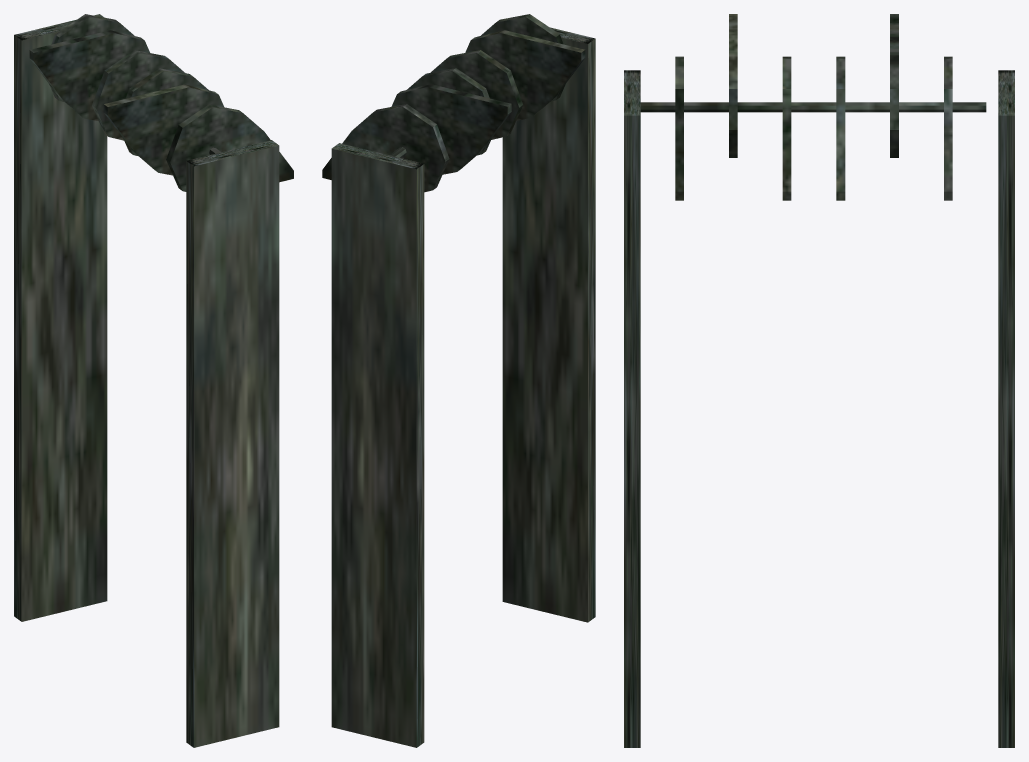
File: SpinnerRack.glb
3 views of the same model, side by side, from view 1: azimuth 30°, elevation 25°; view 2: azimuth 150°, elevation 25°; view 3: azimuth 270°, elevation 25° (orthographic). The views are drawn at different scales.
Visible parts, largest first — view 1: Cube, Cylinder_002; view 2: Cube, Cylinder_002; view 3: Cube, Cylinder_002.
Part boxes in pixels (<box>): Cube: <box>14,14,279,747</box>; Cylinder_002: <box>29,14,293,191</box>; Cube: <box>331,27,595,747</box>; Cylinder_002: <box>322,14,585,192</box>; Cube: <box>624,70,1014,747</box>; Cylinder_002: <box>640,14,986,200</box>.
Bounding box in the file's own units: 3.77 × 13.73 × 7.27.
2 materials, 2 textured.
